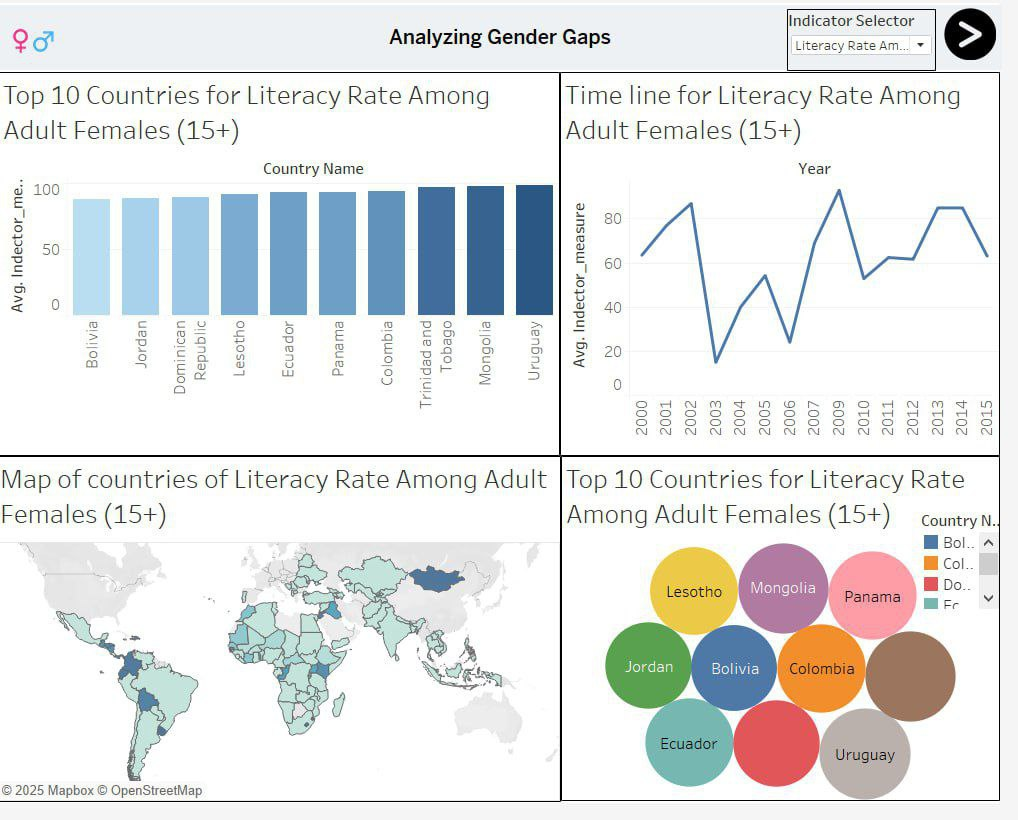

The page's visual inventory and layout, read from the dashboard file:
{"tool":"tableau","page":{"name":"Dashboard 3","canvas":[1000,800],"ordinal":1},"visuals":[{"type":"dashboard-object","box":[943,5,56,52]},{"type":"parameter","param":"[Parameters].[Parameter 1]","box":[788,6,149,62]},{"type":"image","param":"Image/pngtree-cartoon-simple-gender-male-and-female-symbol-free-png-image_422792","box":[3,8,74,59]},{"type":"text","box":[8,8,425,18]},{"type":"legend","title":"customized_bar_plot","param":"[federated.0weln3t0nmhtu017techj063j31q].[avg:Calculation_1114359467949887490:qk","box":[433,8,460,73]},{"type":"dashboard-object","box":[747,11,35,40]},{"type":"dashboard-object","box":[709,15,32,32]},{"type":"worksheet","title":"customized_trend_line","mark":"Line","rows":["Calculation_1114359467949887490"],"cols":["Year"],"box":[561,69,440,384]},{"type":"worksheet","title":"customized_bubble_plot","mark":"Circle","box":[562,453,439,345]},{"type":"legend","title":"customized_bubble_plot","param":"[federated.0weln3t0nmhtu017techj063j31q].[none:Country Name:nk]","box":[922,507,80,99]}]}

Visuals, with their boxes in screenshot pixels (x1, y1, x2, y2), scaled from the page's 1000x800 canvas onto the 1018x820 screenshot:
dashboard-object: (x1=960, y1=5, x2=1017, y2=58)
parameter: (x1=802, y1=6, x2=954, y2=70)
image: (x1=3, y1=8, x2=78, y2=69)
text: (x1=8, y1=8, x2=441, y2=27)
"customized_bar_plot" legend: (x1=441, y1=8, x2=909, y2=83)
dashboard-object: (x1=760, y1=11, x2=796, y2=52)
dashboard-object: (x1=722, y1=15, x2=754, y2=48)
"customized_trend_line" worksheet (Line marks): (x1=571, y1=71, x2=1017, y2=464)
"customized_bubble_plot" worksheet (Circle marks): (x1=572, y1=464, x2=1017, y2=818)
"customized_bubble_plot" legend: (x1=939, y1=520, x2=1017, y2=621)
